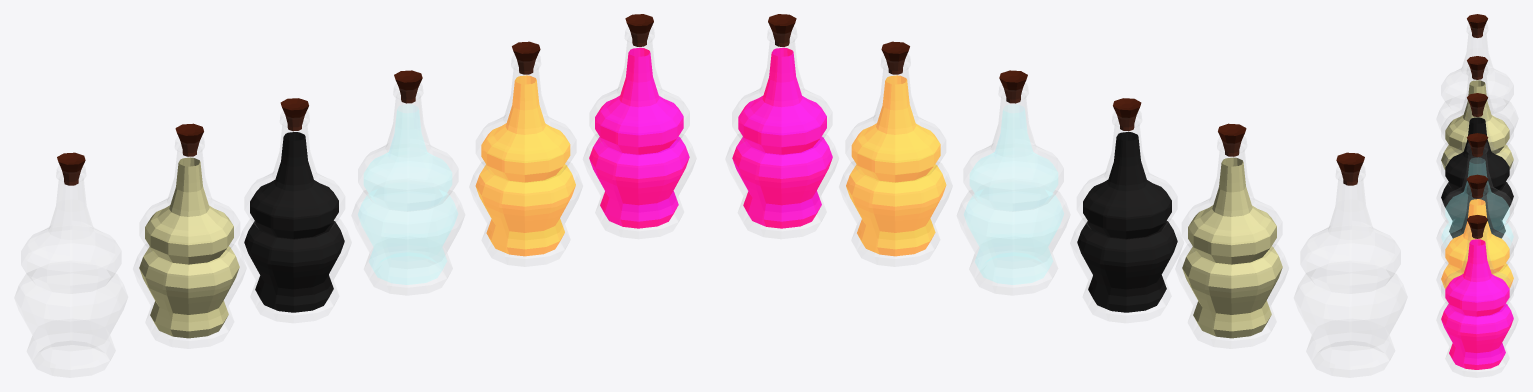
File: FinishedPotions.fbx
3 views of the same model, side by side, from view 1: azimuth 30°, elevation 25°; view 2: azimuth 150°, elevation 25°; view 3: azimuth 270°, elevation 25° (orthographic). The views are drawn at different scales.
Parts seen in each view (by area): view 1: InvisPotion, LightPotion, LovePotion, StainRemover, DeathPotion, Empty Bottlee; view 2: InvisPotion, LightPotion, StainRemover, LovePotion, DeathPotion, Empty Bottlee; view 3: LovePotion, DeathPotion, LightPotion, InvisPotion, StainRemover, Empty Bottlee.
Part boxes in pixels (left/top/right/bottom): InvisPotion: left=357, top=70, right=458, bottom=284; LightPotion: left=475, top=41, right=575, bottom=256; LovePotion: left=589, top=14, right=689, bottom=228; StainRemover: left=139, top=123, right=239, bottom=338; DeathPotion: left=244, top=98, right=344, bottom=312; Empty Bottlee: left=26, top=152, right=115, bottom=353; InvisPotion: left=963, top=70, right=1064, bottom=284; LightPotion: left=846, top=41, right=946, bottom=256; StainRemover: left=1182, top=123, right=1282, bottom=338; LovePotion: left=732, top=14, right=832, bottom=228; DeathPotion: left=1077, top=98, right=1177, bottom=312; Empty Bottlee: left=1306, top=152, right=1394, bottom=353; LovePotion: left=1441, top=215, right=1513, bottom=369; DeathPotion: left=1441, top=93, right=1513, bottom=238; LightPotion: left=1441, top=174, right=1513, bottom=289; InvisPotion: left=1441, top=133, right=1513, bottom=247; StainRemover: left=1441, top=56, right=1513, bottom=169; Empty Bottlee: left=1445, top=14, right=1509, bottom=110.
Bounding box in the file's own units: 641 × 186 × 95.06.
